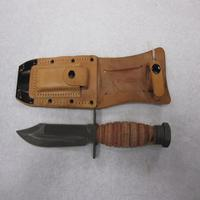knife: (11, 117, 189, 157)
